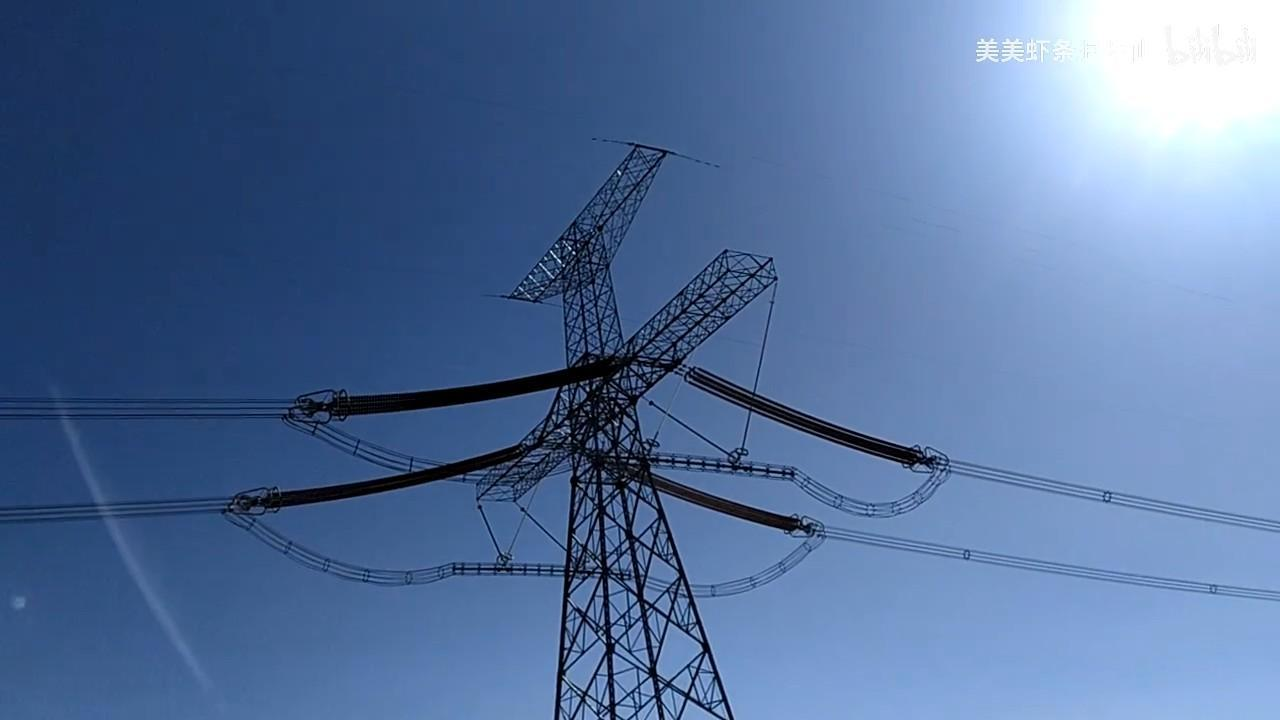power_tower: (226, 137, 954, 720)
